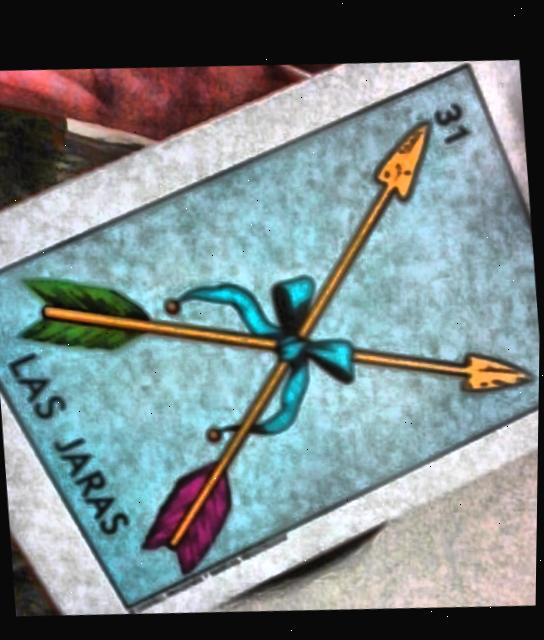Las Jaras: (0, 63, 540, 607)
